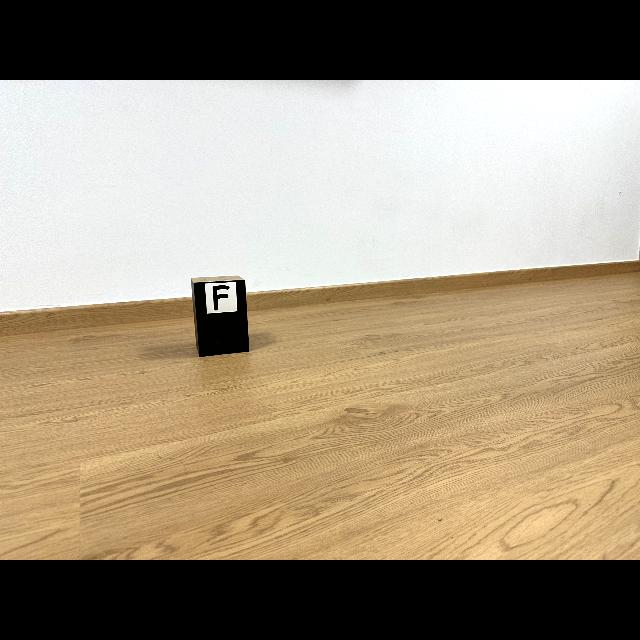F: (212, 285, 230, 311)
